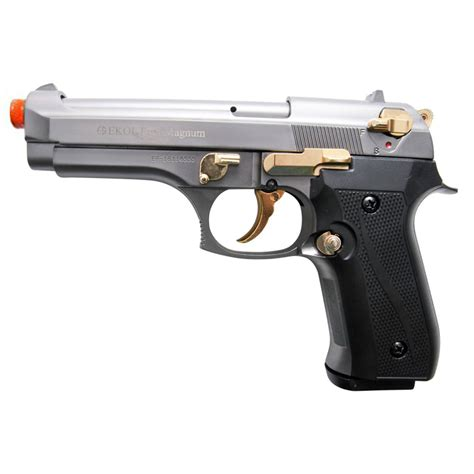gun: (10, 76, 458, 390)
